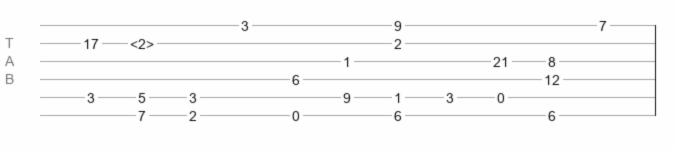0: (292, 108, 300, 118), (497, 90, 505, 100)
1: (343, 54, 351, 64), (394, 90, 402, 100)
12: (544, 72, 560, 82)
17: (83, 36, 99, 46)
2: (189, 108, 197, 118), (394, 36, 402, 46)
21: (493, 54, 509, 64)
3: (87, 90, 95, 100), (189, 90, 197, 100), (241, 18, 249, 28), (446, 90, 454, 100)
5: (138, 90, 146, 100)
6: (292, 72, 300, 82), (394, 108, 402, 118), (548, 108, 556, 118)
7: (138, 108, 146, 118), (599, 18, 607, 28)
8: (548, 54, 556, 64)
9: (343, 90, 351, 100), (394, 18, 402, 28)
harmonic: (130, 36, 154, 46)
